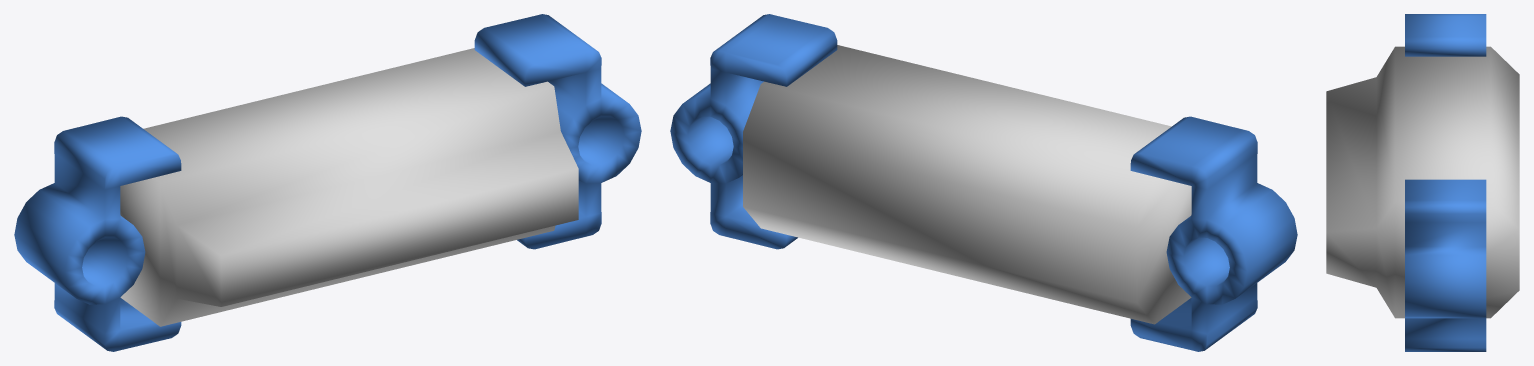
File: guillotinesmall.fbx
The picture shows the model from 3 angles, left to right: view 1: azimuth 30°, elevation 25°; view 2: azimuth 150°, elevation 25°; view 3: azimuth 270°, elevation 25°; orthographic projection. The views are drawn at different scales.
Visible parts, largest first — view 1: Cylinder.024; view 2: Cylinder.024; view 3: Cylinder.024.
Part boxes in pixels (x1,y1,x2,y2): Cylinder.024: [14, 14, 641, 351]; Cylinder.024: [670, 14, 1297, 351]; Cylinder.024: [1326, 14, 1519, 351].
Size of the model in its own units: 3.23 by 0.9907 by 1.16.
